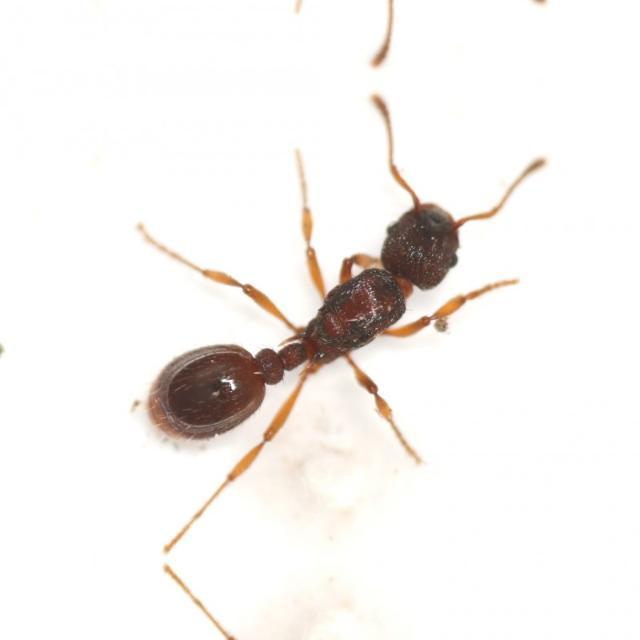Myrmica: (116, 142, 508, 480)
